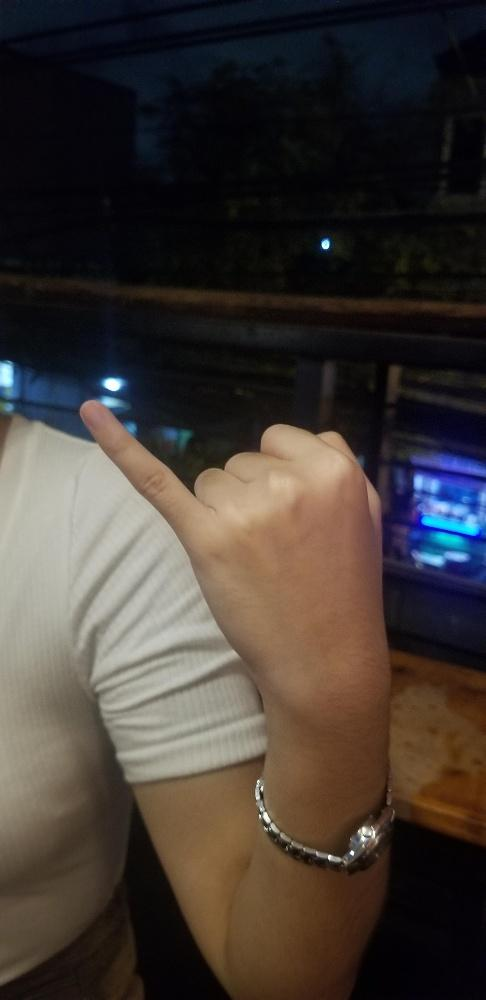j: (77, 396, 387, 682)
